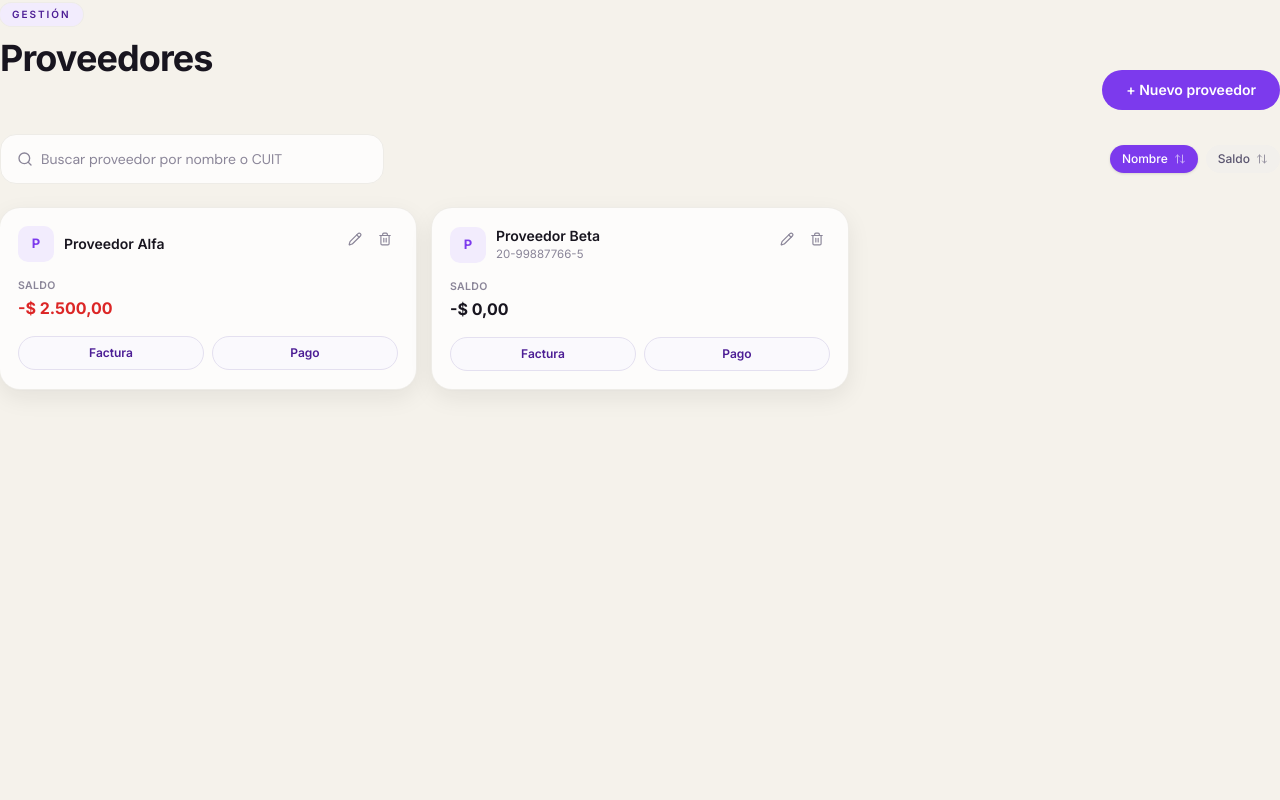
Scenario: ProveedoresList › clicking Eliminar on any supplier opens the confirmation dialog (c-18 FE-008)
expect the text "Proveedor Beta" is shown: met, box 496,226 -> 600,246
Click the 4th button named "eliminar".
click(817, 239)  # box 804,226 -> 830,252
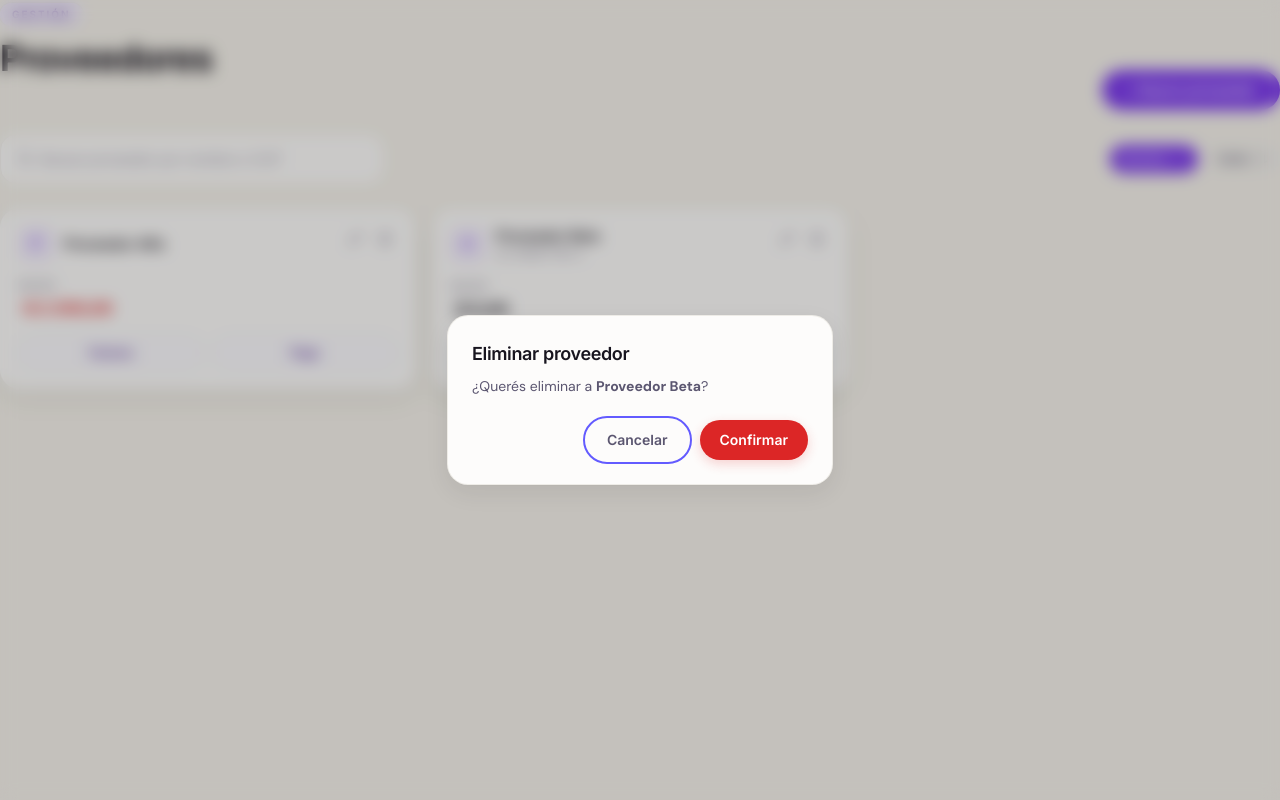
expect the dialog is shown: met, box 448,316 -> 832,484
